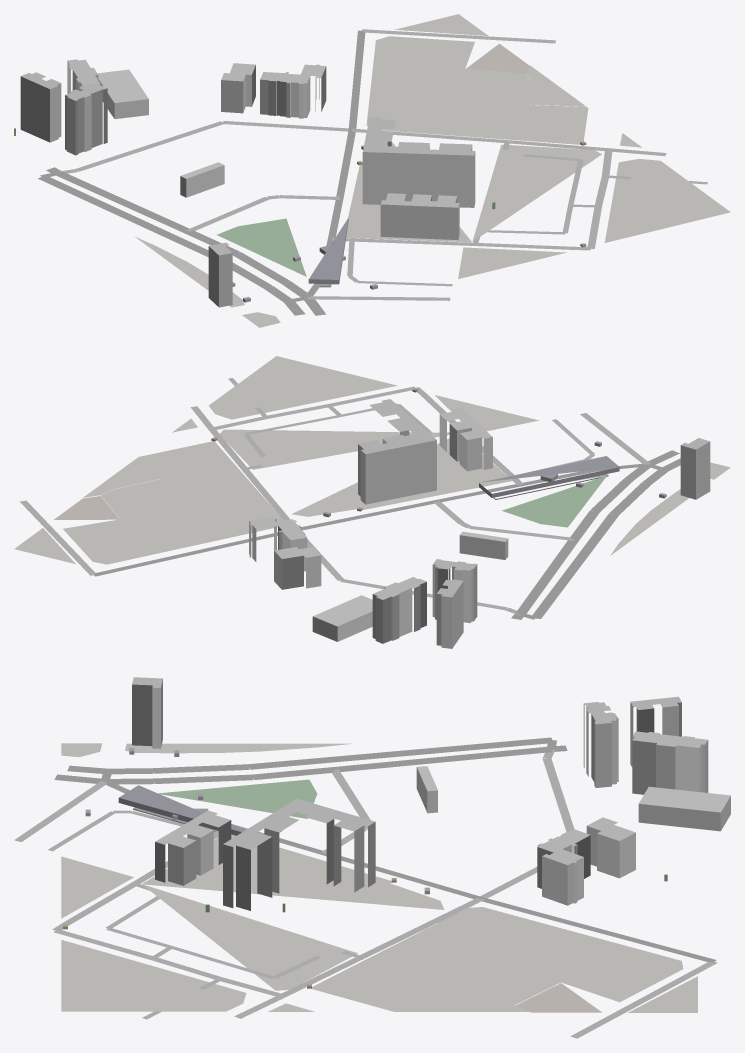
3 renders of one model, top to bottom at view 1: azimuth 30°, elevation 25°; view 2: azimuth 150°, elevation 25°; view 3: azimuth 270°, elevation 25°, orthographic. The views are drawn at different scales.
Size of the model in its own units: 562 by 61.32 by 563.
